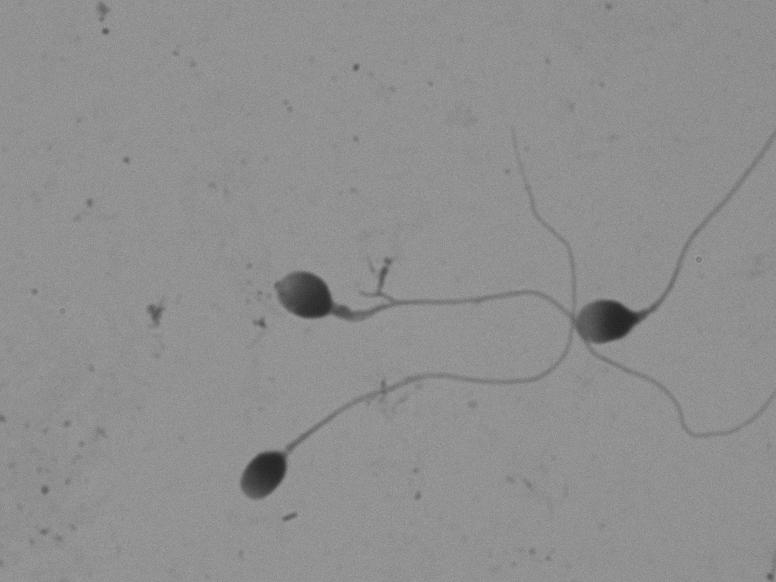Abnormal: (547, 111, 750, 389), (251, 220, 560, 345)
Normal: (212, 332, 575, 517)
